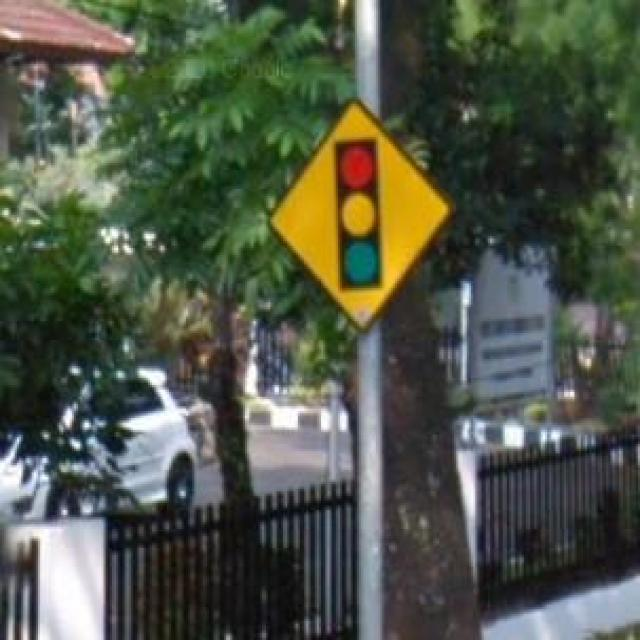traffic sign: (272, 104, 448, 319)
